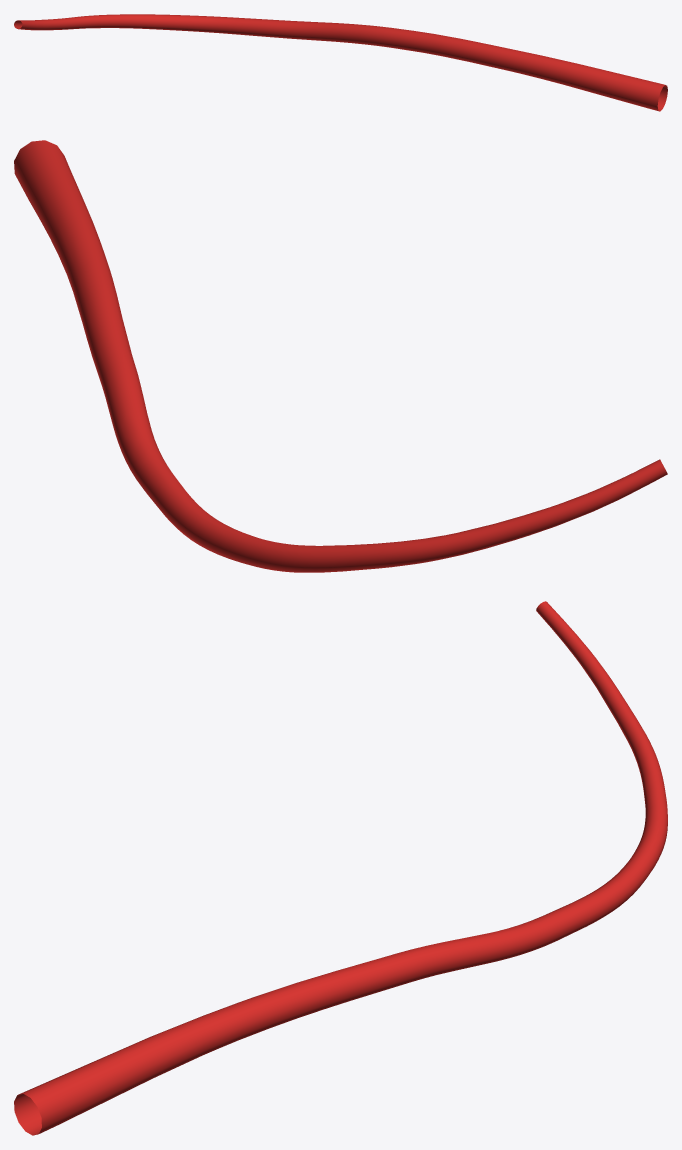
File: circulatorio-posterior-circumflex-humeral-vein-r.glb
3 views of the same model, one above another, from view 1: azimuth 30°, elevation 25°; view 2: azimuth 150°, elevation 25°; view 3: azimuth 270°, elevation 25° (orthographic). The views are drawn at different scales.
Visible parts, largest first — view 1: Posterior circumflex humeral vein.r; view 2: Posterior circumflex humeral vein.r; view 3: Posterior circumflex humeral vein.r.
Part boxes in pixels (x1,y1,x2,y2): Posterior circumflex humeral vein.r: [14, 14, 667, 111]; Posterior circumflex humeral vein.r: [14, 140, 667, 572]; Posterior circumflex humeral vein.r: [14, 601, 667, 1135].
Bounding box in the file's own units: 0.0517 × 0.00913 × 0.0362.
